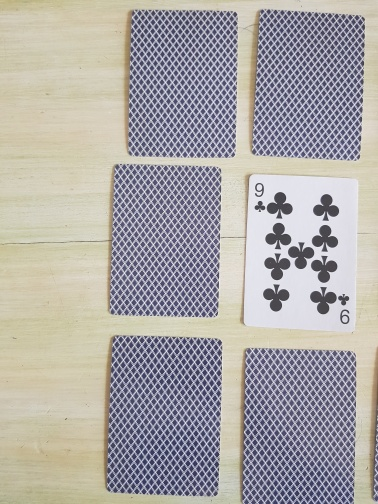nine: (242, 173, 360, 332)
